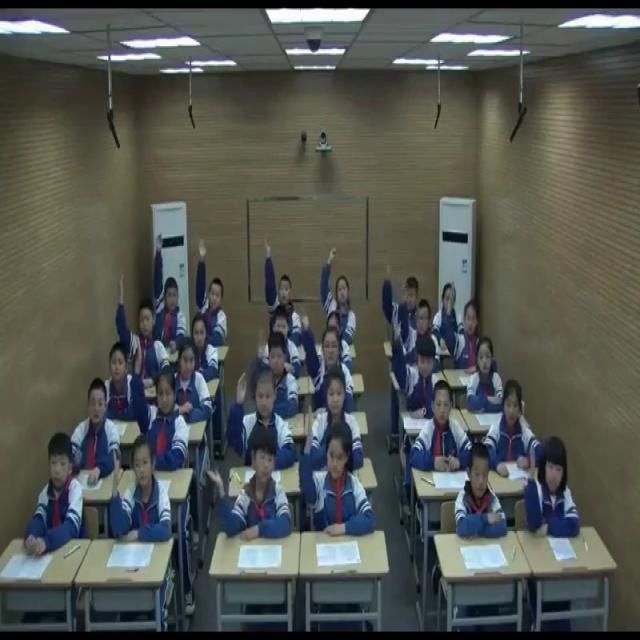focused: (30, 431, 86, 552), (307, 369, 367, 478), (484, 381, 546, 480), (410, 379, 475, 472), (72, 378, 123, 488), (455, 442, 507, 545), (171, 336, 214, 432), (258, 302, 301, 374), (466, 338, 506, 413), (106, 342, 139, 423), (188, 310, 220, 385)
raising_hand: (300, 406, 376, 542), (206, 430, 294, 546), (129, 330, 189, 471), (227, 367, 299, 471), (108, 431, 172, 544), (114, 270, 171, 384), (387, 316, 448, 422), (298, 307, 354, 412), (524, 439, 581, 542), (442, 278, 491, 372), (151, 228, 187, 349), (397, 276, 444, 368), (262, 234, 302, 342), (252, 330, 301, 418), (193, 236, 229, 348), (319, 244, 357, 349), (381, 257, 425, 341)
